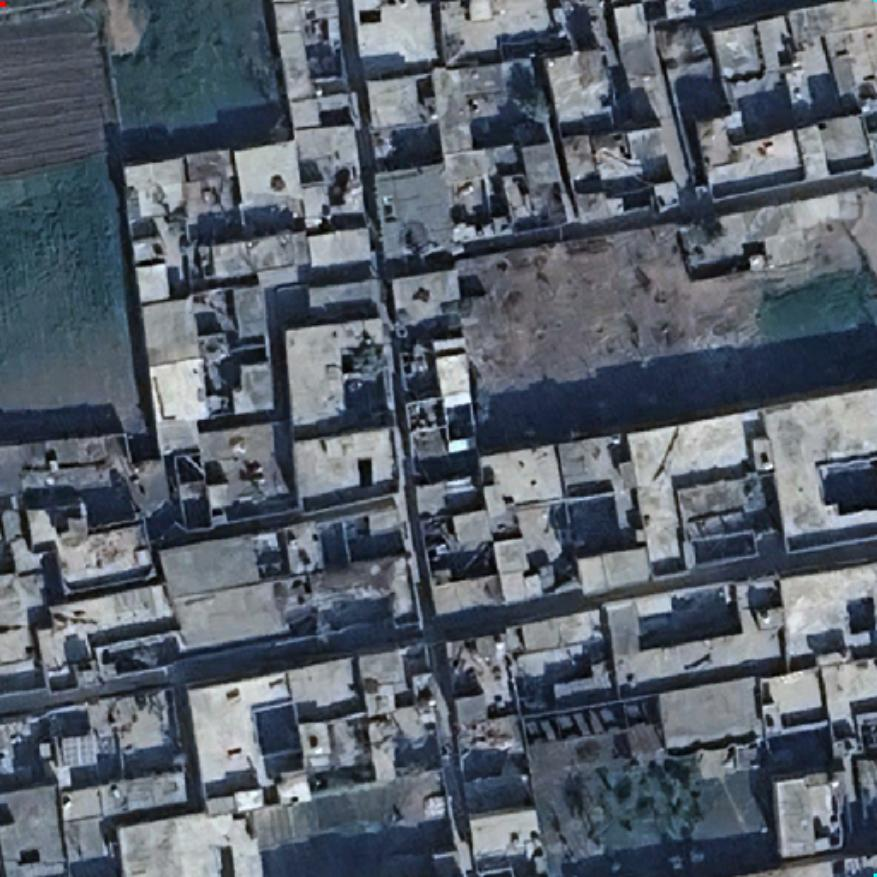Solarpanel: (58, 732, 100, 768)
